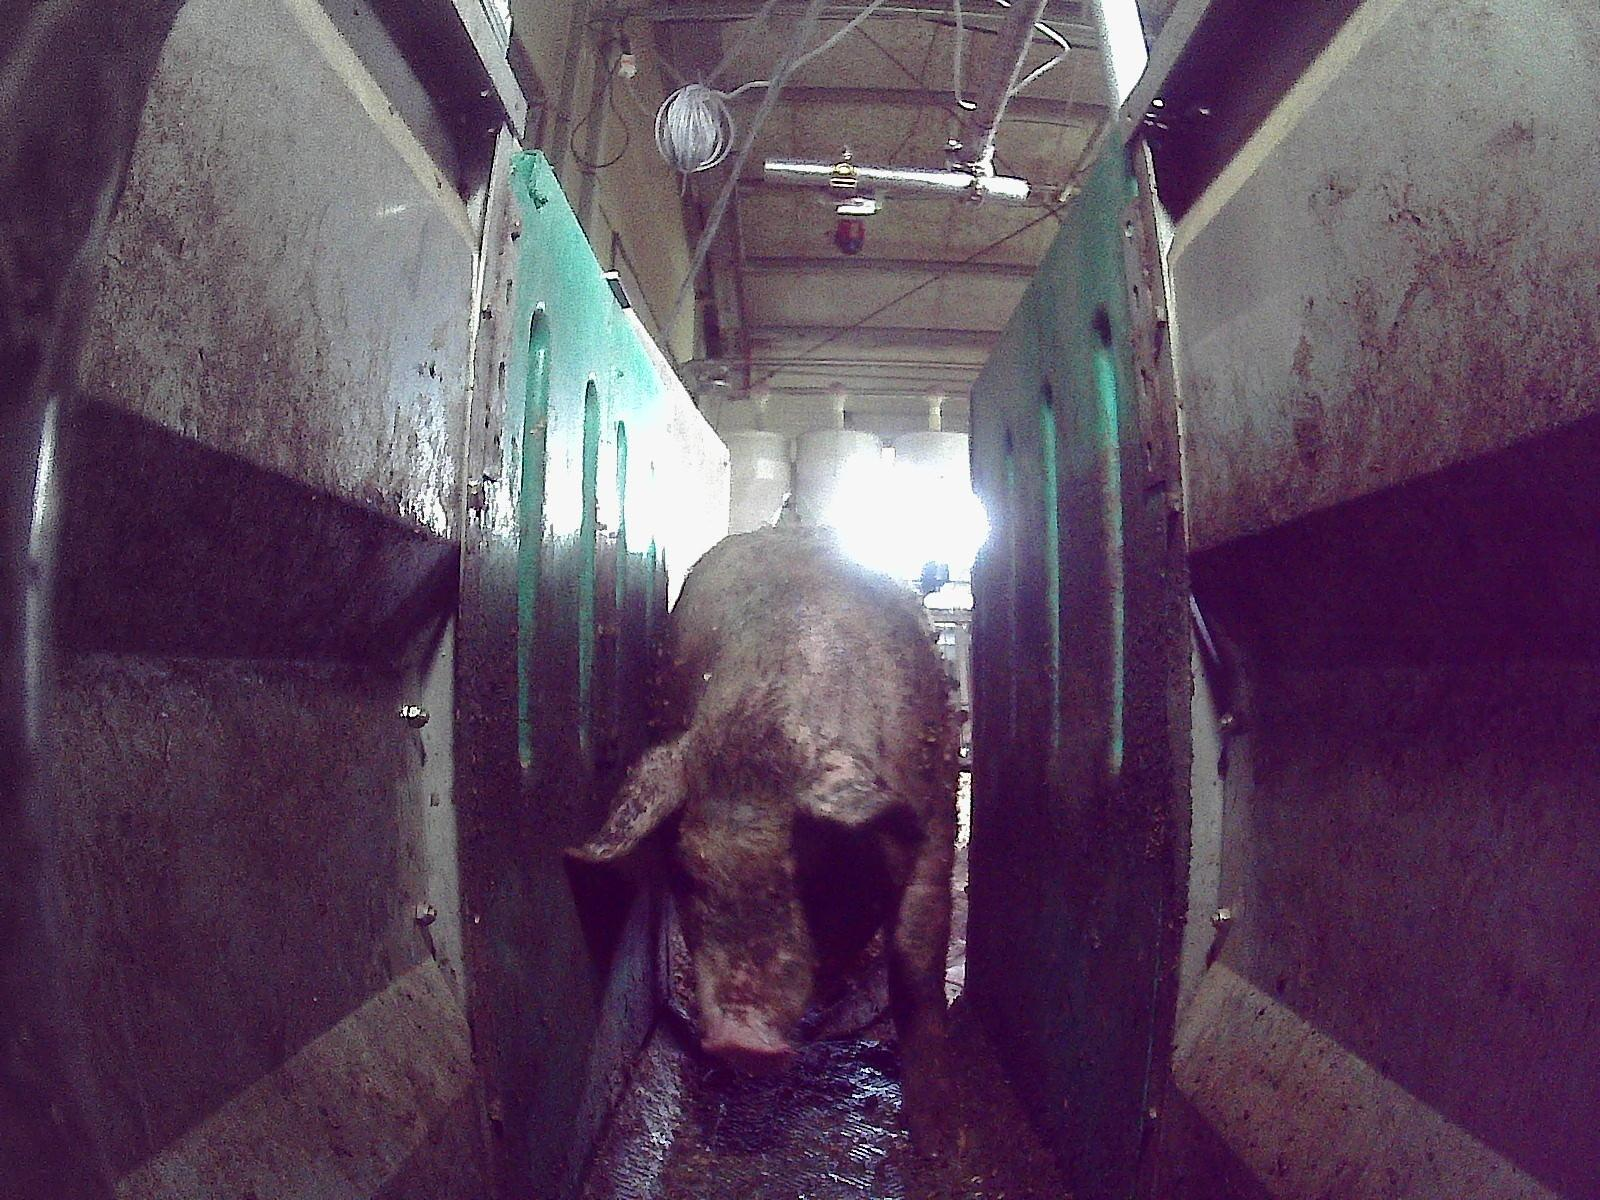Face: (663, 716, 848, 1071)
